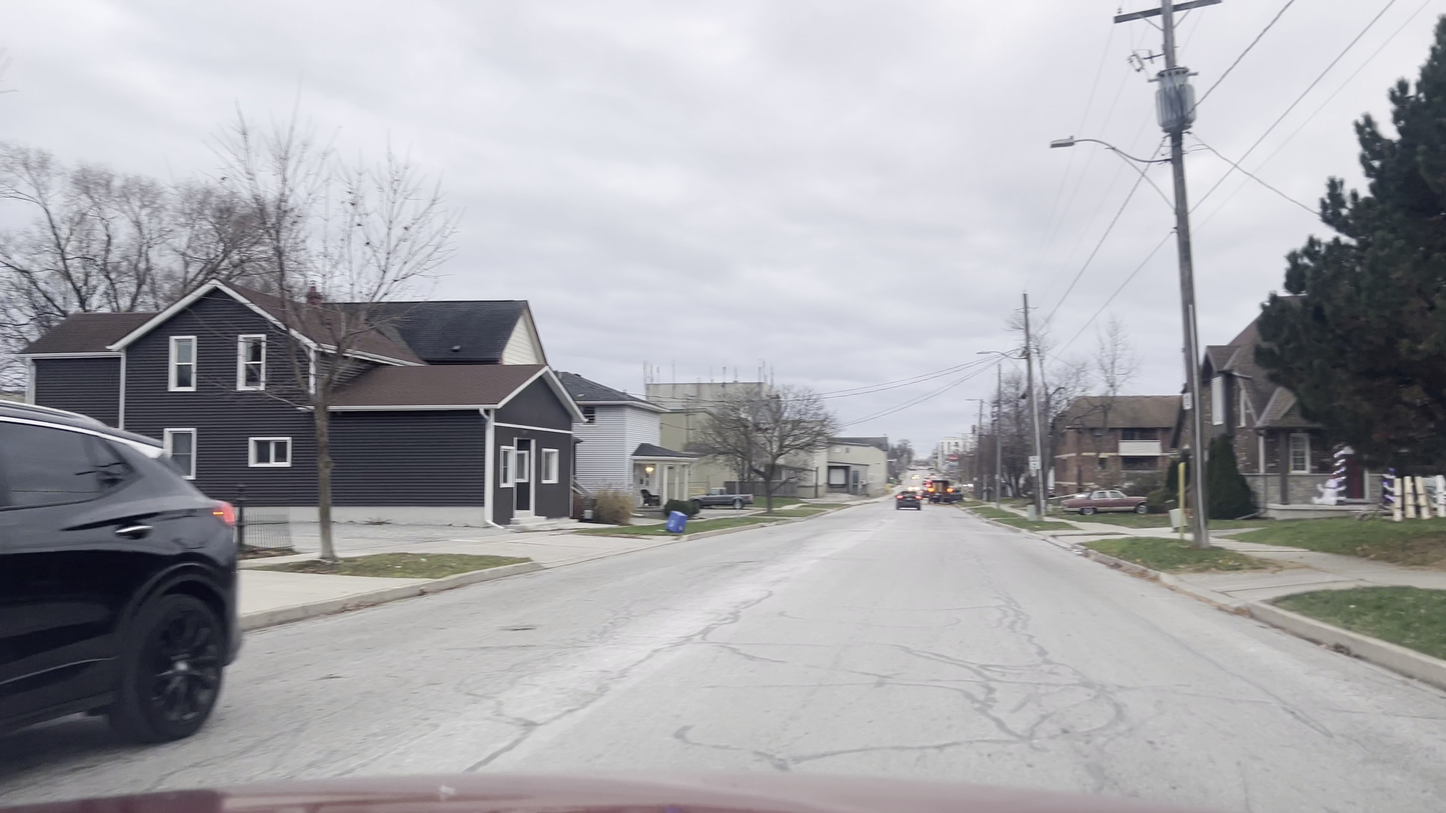cracks: (937, 657, 1103, 748), (668, 720, 790, 768), (466, 708, 557, 768)
